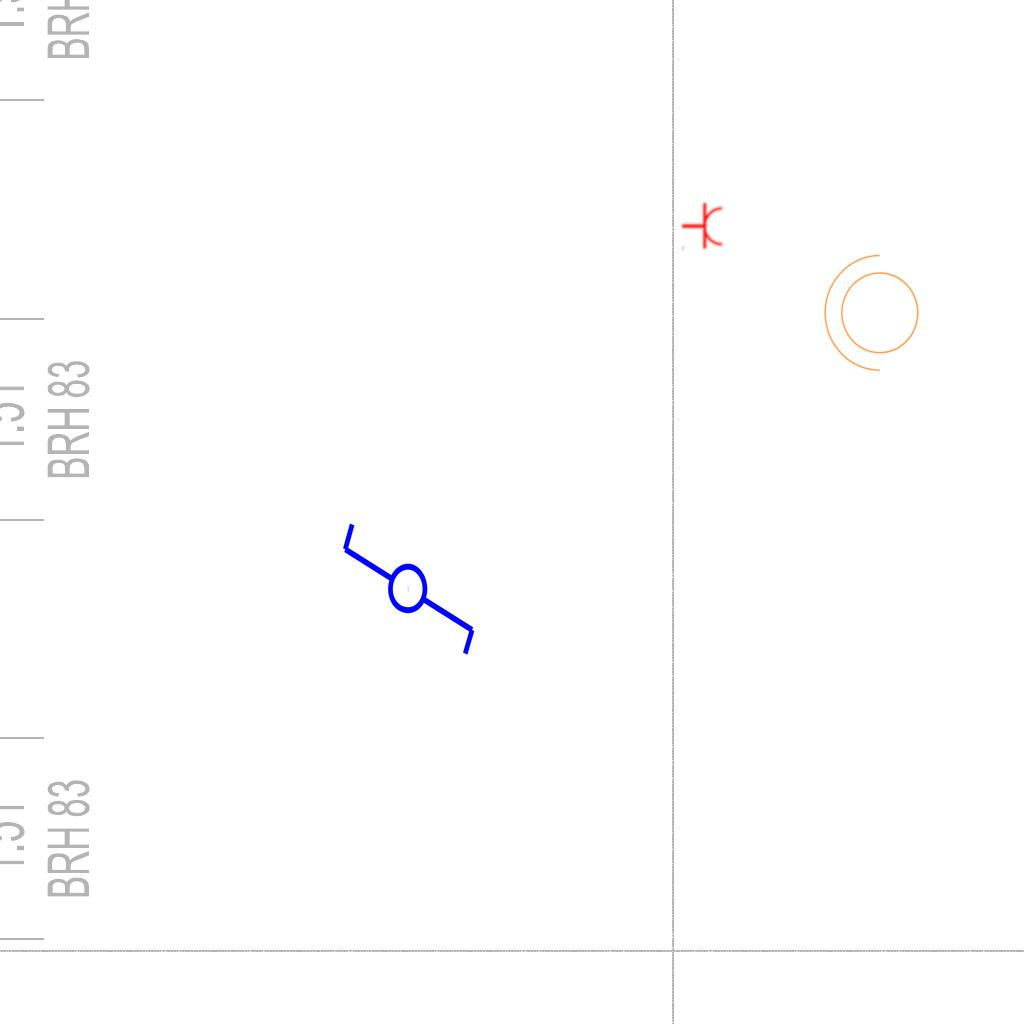Scheinwerfer_fuer_Alarmbeleuchtung: (819, 250, 931, 382)
Schukosteckdose_einfach: (681, 202, 724, 252)
Wechselschalter: (338, 502, 482, 659)
